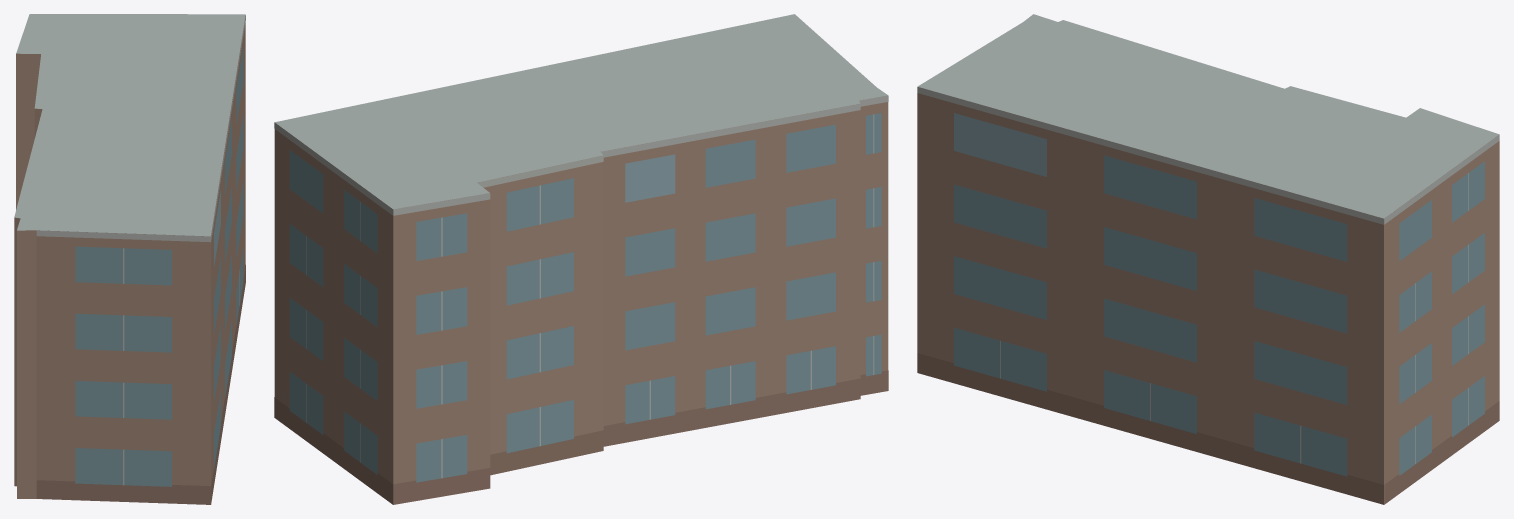
File: survey-upis-32813503.glb
3 renders of one model, left to right at view 1: azimuth 30°, elevation 25°; view 2: azimuth 150°, elevation 25°; view 3: azimuth 270°, elevation 25°, orthographic. The views are drawn at different scales.
Parts seen in each view (by area): view 1: survey-upis-32813503.tmp; view 2: survey-upis-32813503.tmp; view 3: survey-upis-32813503.tmp.
Part boxes in pixels (left/top/right/bottom): survey-upis-32813503.tmp: left=14, top=14, right=245, bottom=504; survey-upis-32813503.tmp: left=274, top=14, right=888, bottom=504; survey-upis-32813503.tmp: left=917, top=14, right=1499, bottom=504.
Size of the model in its own units: 17.2 by 11.21 by 20.68.
